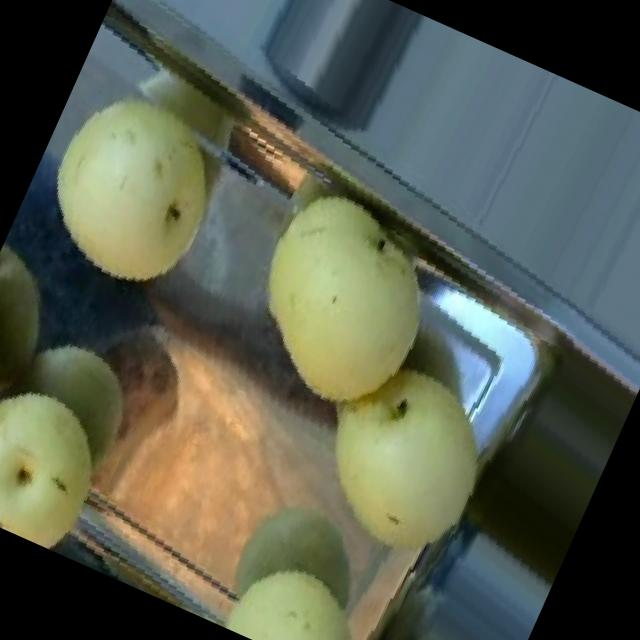Fruit: (198, 148, 491, 451), (261, 316, 542, 598), (5, 48, 272, 324), (0, 354, 153, 566), (211, 527, 409, 640), (0, 251, 44, 497)
